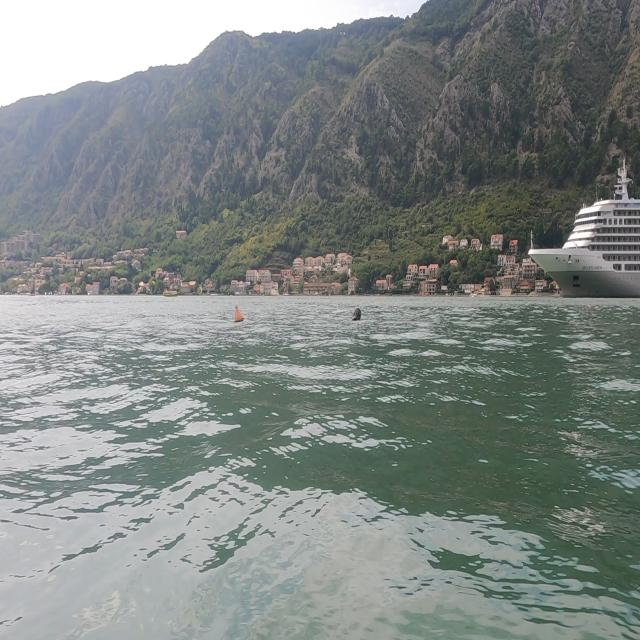buoy: (231, 299, 246, 331), (347, 302, 367, 326)
